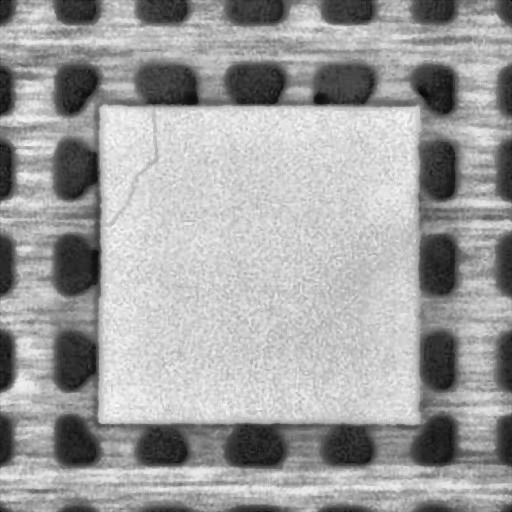DIE_CRACK: (100, 106, 160, 226)
